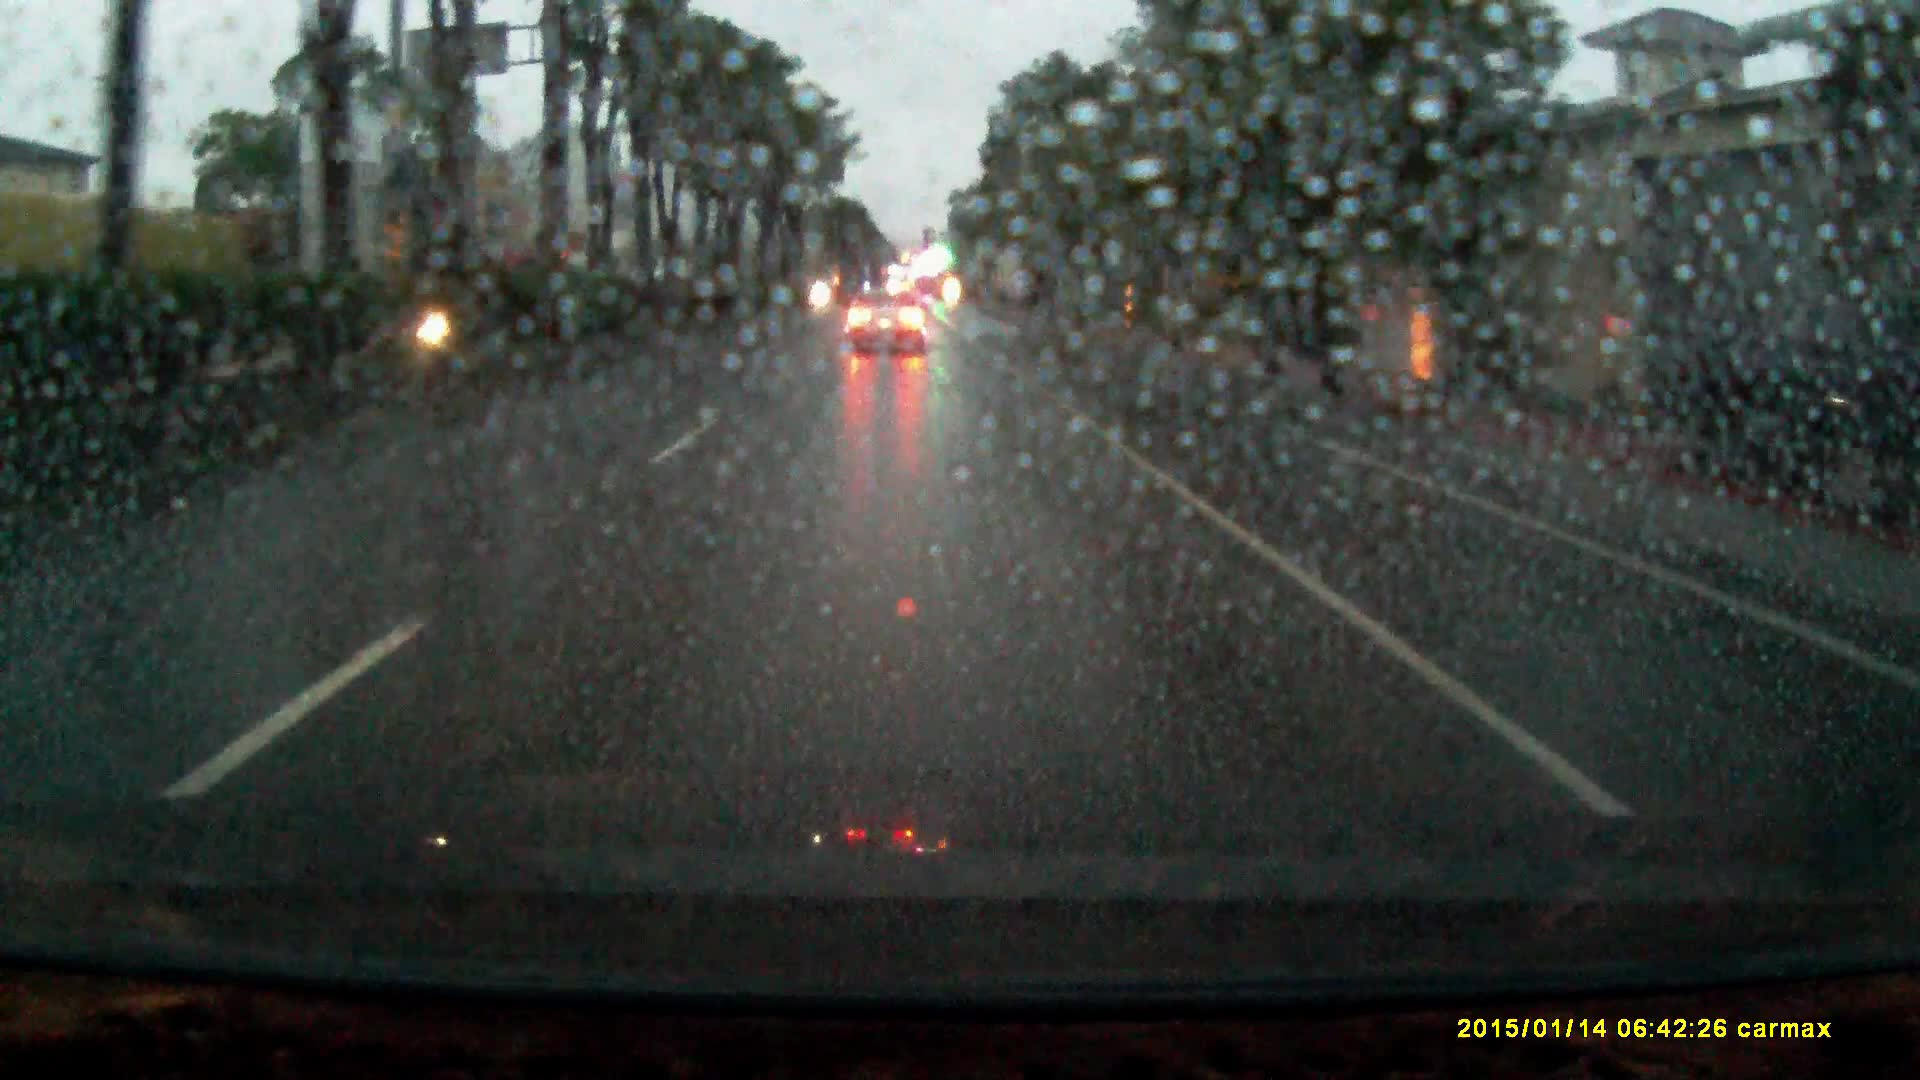vehicle: (1636, 310, 1898, 520), (15, 204, 260, 382), (845, 302, 928, 371)
